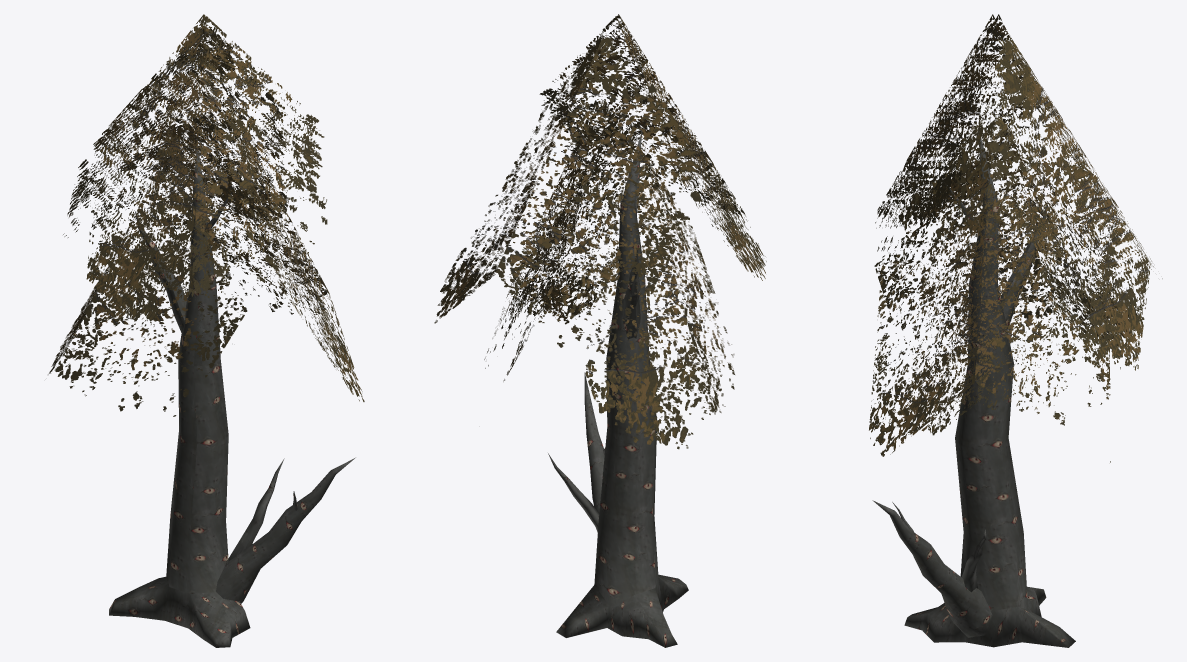
Rendered from Eyetree02.fbx.
The picture shows the model from 3 angles, left to right: view 1: azimuth 30°, elevation 25°; view 2: azimuth 150°, elevation 25°; view 3: azimuth 270°, elevation 25°; orthographic projection. The views are drawn at different scales.
Parts seen in each view (by area): view 1: Eyetree02; view 2: Eyetree02; view 3: Eyetree02.
Part boxes in pixels (x1,y1,x2,y2): Eyetree02: [48, 14, 364, 647]; Eyetree02: [434, 14, 766, 647]; Eyetree02: [869, 14, 1162, 647].
Bounding box in the file's own units: 4.53 × 9.26 × 4.79.
Materials: 2 (2 with a texture image).
